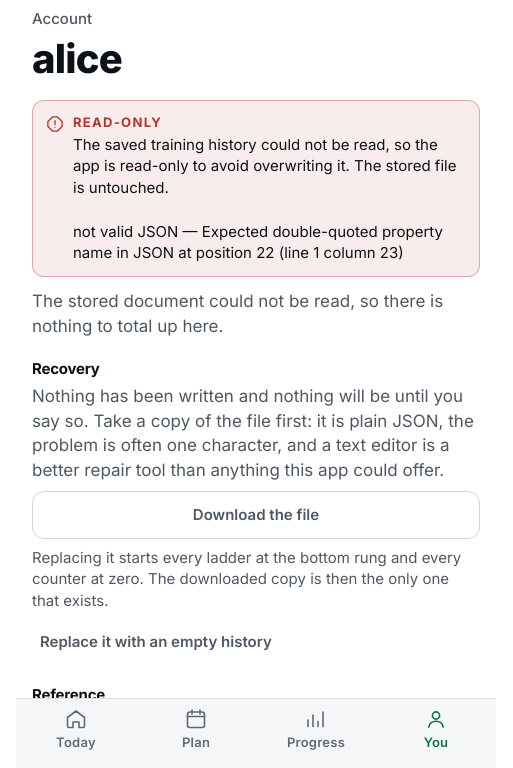
Test: a corrupt document › replaces it on the second tap and lifts the read-only latch
The width and height of the screenshot is (513, 768).
Click the button "Replace it with an empty history": [156, 642] box [32,620,280,664]
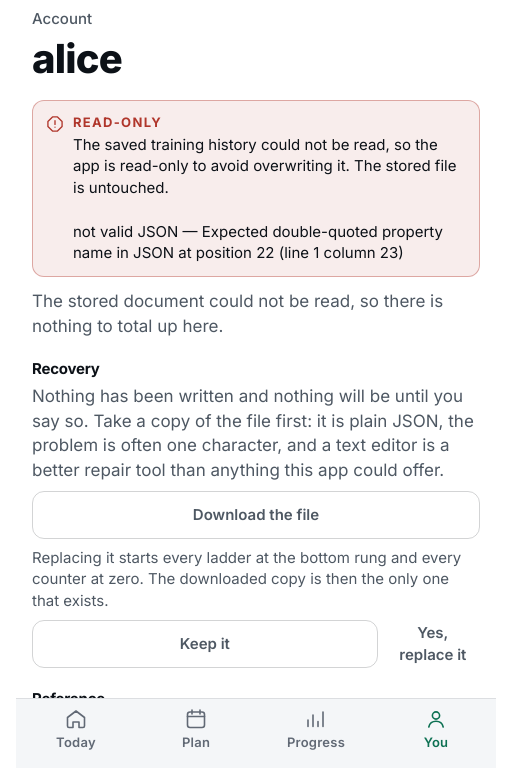
Click the button "Yes, replace it": [433, 644] box [386,622,480,666]
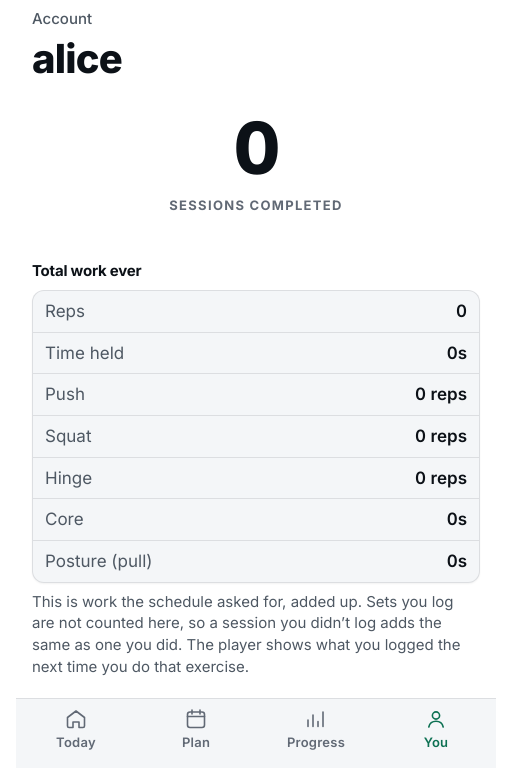
Expected: the heading "Total work ever" is shown, [32,261,141,280]
Expected: the heading "Recovery" is gone
